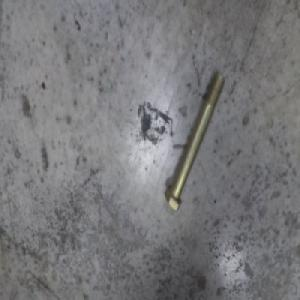Bolt: (164, 73, 223, 210)
